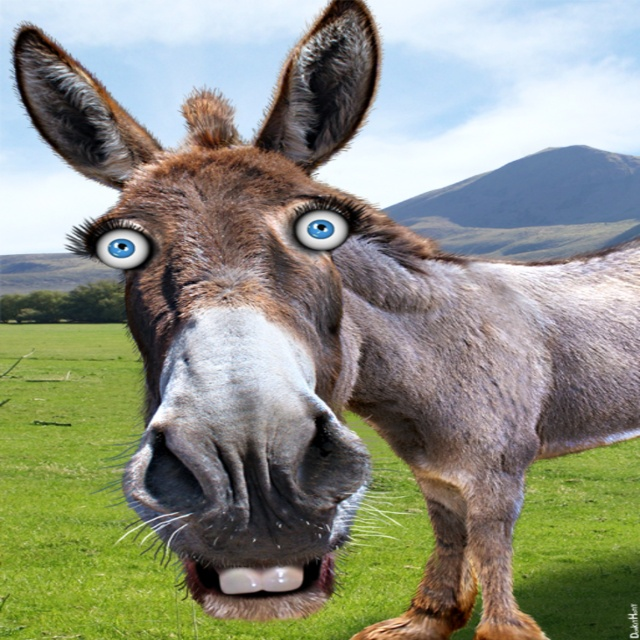Mule: (15, 0, 639, 639)
